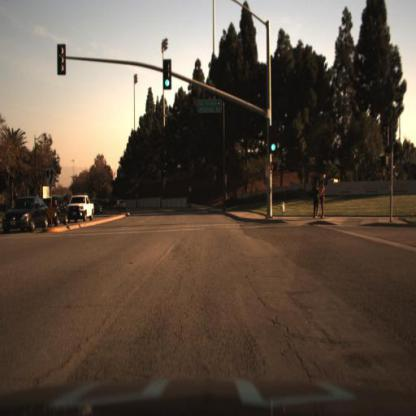car: (4, 196, 48, 234), (66, 192, 95, 228), (47, 194, 69, 235), (66, 194, 97, 221), (116, 197, 129, 213)
pedestrian: (312, 178, 319, 221), (320, 177, 327, 220), (314, 178, 319, 223)
trafficLight-Green: (55, 44, 67, 78), (57, 42, 68, 78), (163, 58, 174, 93), (271, 125, 279, 156)
